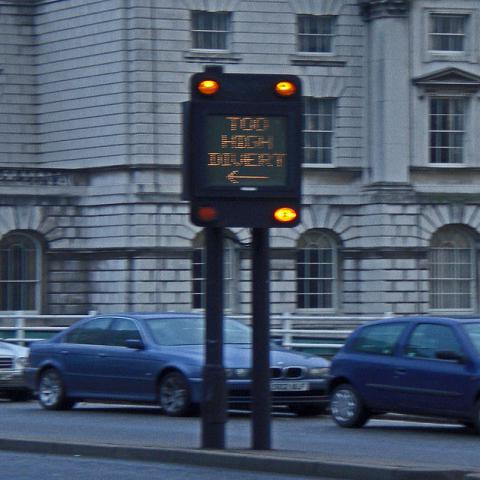car: (22, 312, 338, 418), (323, 316, 479, 430), (0, 337, 34, 398)
